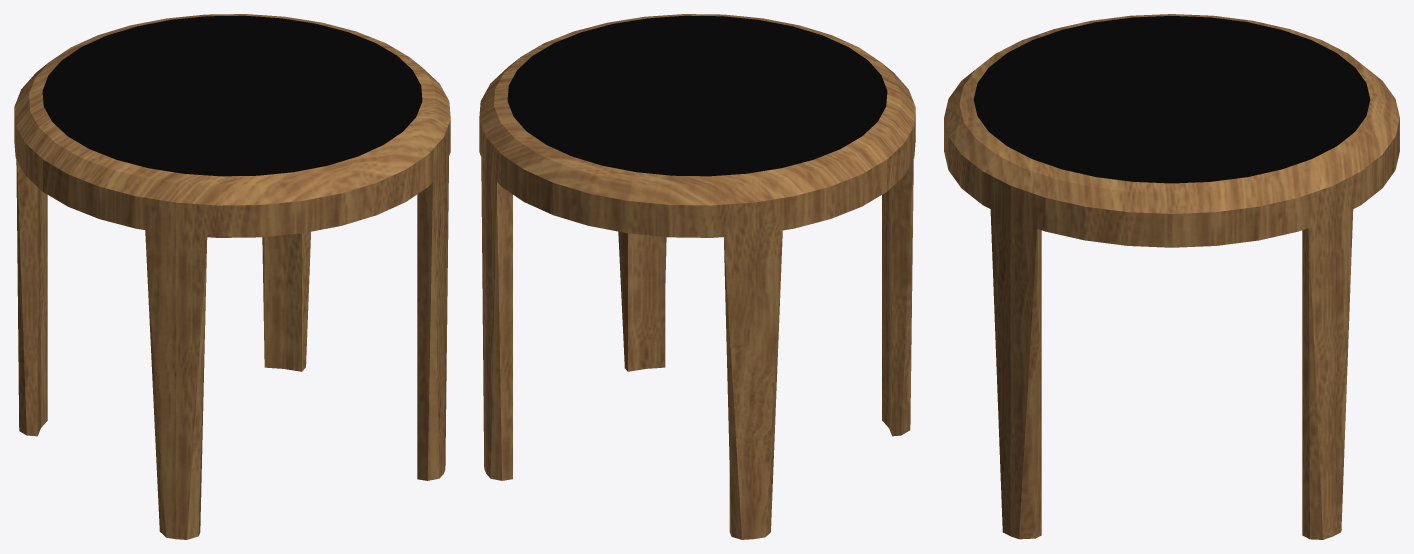
Rendered from tables.glb.
3 renders of one model, left to right at view 1: azimuth 30°, elevation 25°; view 2: azimuth 150°, elevation 25°; view 3: azimuth 270°, elevation 25°, orthographic. The views are drawn at different scales.
Visible parts, largest first — view 1: table; view 2: table; view 3: table.
Boxes of the visible parts, box(x1,y1,x2,y2) form: table: box(14, 14, 450, 539); table: box(479, 14, 915, 539); table: box(944, 14, 1399, 539).
Size of the model in its own units: 2.87 by 2.56 by 2.87.
Materials: 1 (1 with a texture image).
